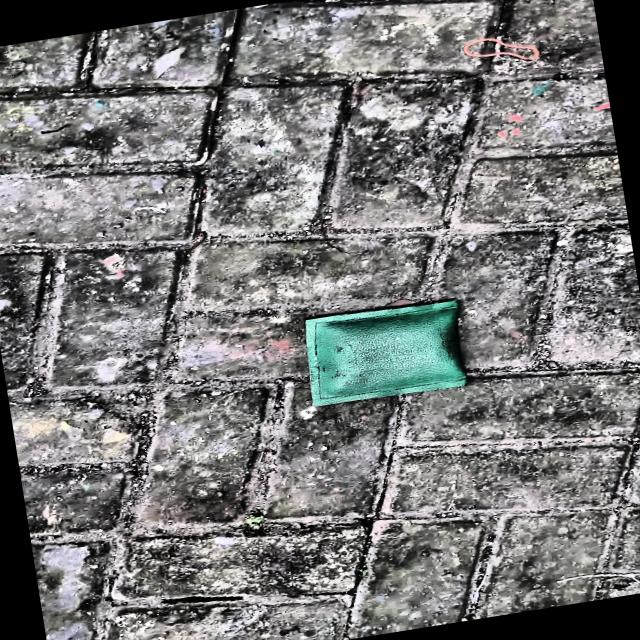payload: (305, 300, 467, 406)
